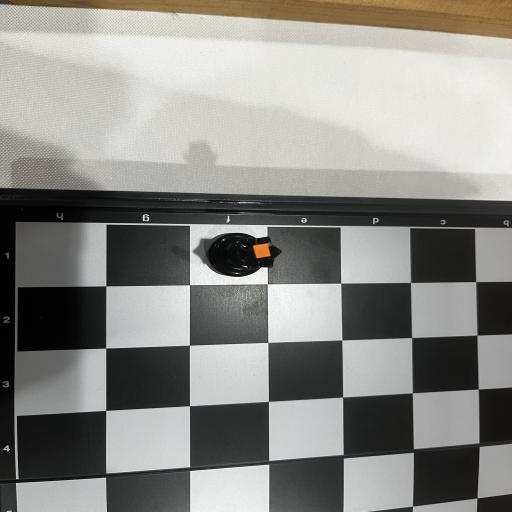Black queen: (208, 232, 282, 277)
